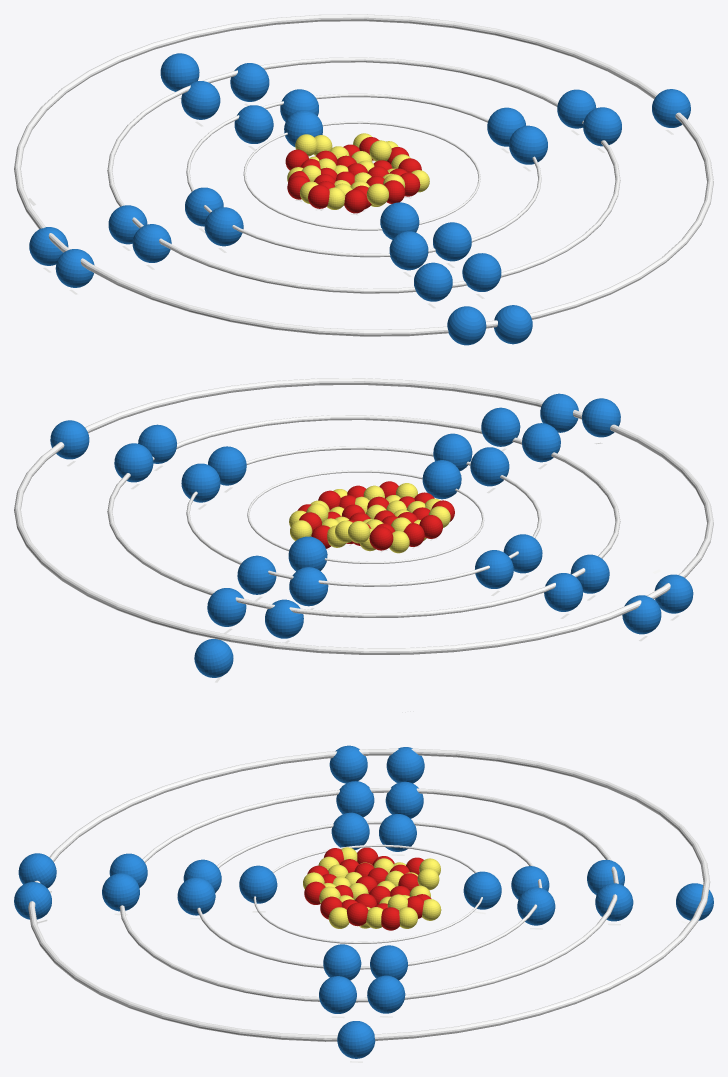
3 views of the same model, one above another, from view 1: azimuth 30°, elevation 25°; view 2: azimuth 150°, elevation 25°; view 3: azimuth 270°, elevation 25° (orthographic). The views are drawn at different scales.
Parts seen in each view (by area): view 1: Torus.004, Torus.003, Torus.002, Torus.001, g.006, g.022, g.007, g.014, g.015, g.008, g.005, g.017 (+16 smaller); view 2: Torus.004, Torus.003, Torus.002, Torus.001, g.021, g.015, g.001, g.006, g.009, g.014, g.004, g.008 (+16 smaller); view 3: Torus.004, Torus.003, Torus.002, Torus.001, g.012, g.023, g.013, g.001, g.007, g, g.015, g.019 (+16 smaller).
Boxes of the visible parts, x1,y1,x2,y2 form: Torus.004: [14, 14, 713, 336]; Torus.003: [107, 57, 620, 293]; Torus.002: [186, 93, 541, 257]; Torus.001: [243, 121, 480, 230]; g.006: [389, 231, 428, 270]; g.022: [447, 306, 486, 345]; g.007: [433, 222, 471, 261]; g.014: [414, 262, 452, 301]; g.015: [462, 253, 501, 291]; g.008: [234, 105, 273, 143]; g.005: [509, 125, 547, 164]; g.017: [230, 63, 269, 101]; Torus.004: [14, 378, 713, 654]; Torus.003: [107, 415, 620, 617]; Torus.002: [186, 446, 541, 586]; Torus.001: [247, 470, 484, 563]; g.021: [194, 639, 233, 677]; g.015: [481, 407, 520, 446]; g.001: [422, 460, 461, 499]; g.006: [470, 447, 509, 486]; g.009: [237, 555, 276, 594]; g.014: [522, 423, 560, 462]; g.004: [181, 463, 220, 502]; g.008: [289, 567, 328, 606]; Torus.004: [28, 748, 710, 1041]; Torus.003: [119, 787, 618, 1002]; Torus.002: [197, 821, 542, 969]; Torus.001: [253, 844, 482, 943]; g.012: [367, 975, 405, 1013]; g.023: [337, 1021, 375, 1058]; g.013: [319, 976, 356, 1013]; g.001: [239, 865, 277, 903]; g.007: [177, 877, 215, 915]; g: [463, 871, 501, 909]; g.015: [102, 873, 139, 911]; g.019: [329, 745, 367, 783].
Size of the model in its own units: 8.71 by 1.03 by 8.54.
